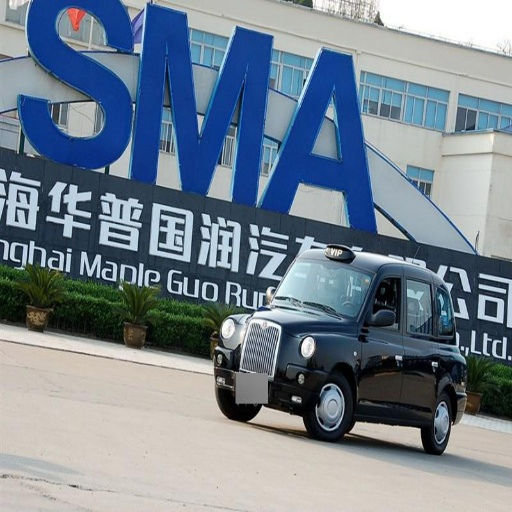front_glass: (310, 264, 368, 319)
trunk: (243, 313, 313, 384)
